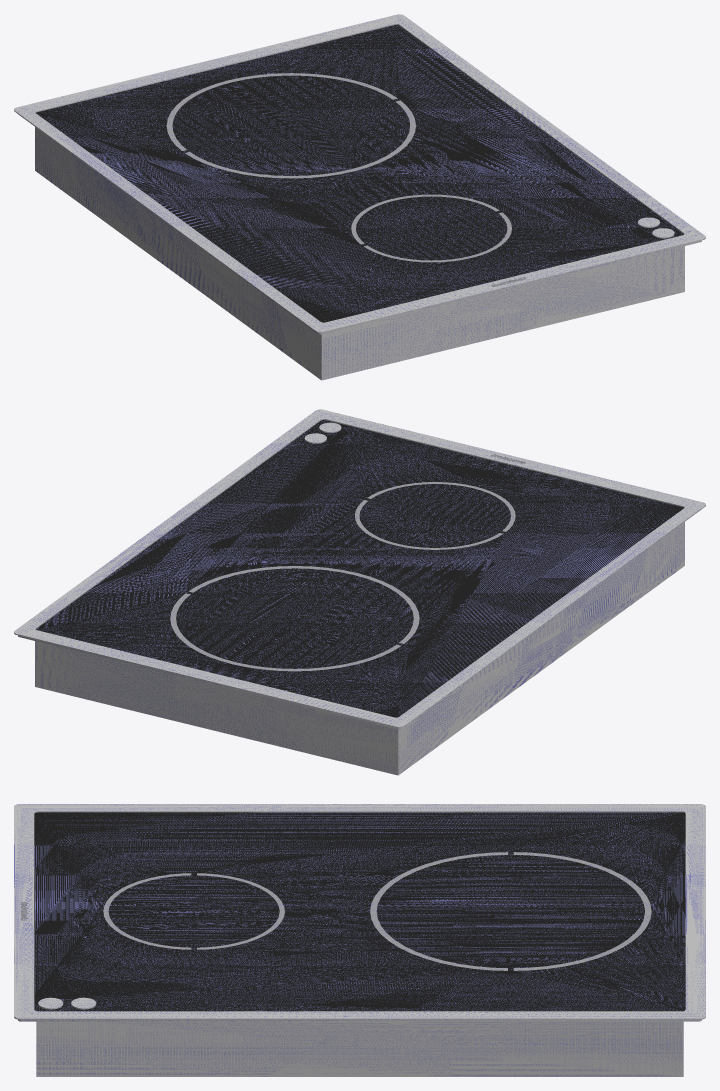
3 views of the same model, one above another, from view 1: azimuth 30°, elevation 25°; view 2: azimuth 150°, elevation 25°; view 3: azimuth 270°, elevation 25° (orthographic). The views are drawn at different scales.
Parts seen in each view (by area): view 1: Gaggenau_Induction_cooktop_VI424610_-_Vario_cooktops_400_ser (×9); view 2: Gaggenau_Induction_cooktop_VI424610_-_Vario_cooktops_400_ser (×9); view 3: Gaggenau_Induction_cooktop_VI424610_-_Vario_cooktops_400_ser (×9).
Part boxes in pixels (left/top/right/bottom): Gaggenau_Induction_cooktop_VI424610_-_Vario_cooktops_400_ser (×9): left=14, top=14, right=705, bottom=380; Gaggenau_Induction_cooktop_VI424610_-_Vario_cooktops_400_ser (×9): left=14, top=409, right=705, bottom=775; Gaggenau_Induction_cooktop_VI424610_-_Vario_cooktops_400_ser (×9): left=14, top=804, right=705, bottom=1076.
Bounding box in the file's own units: 15.2 × 20.71 × 2.17.
